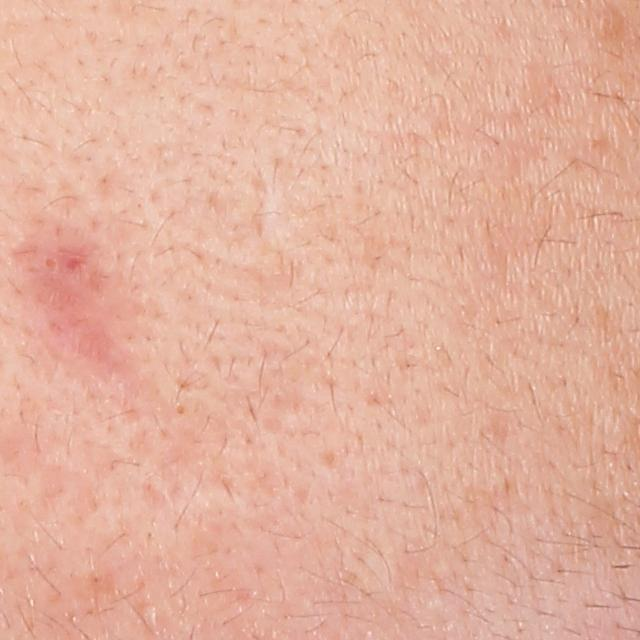comedo: (172, 400, 189, 419)
